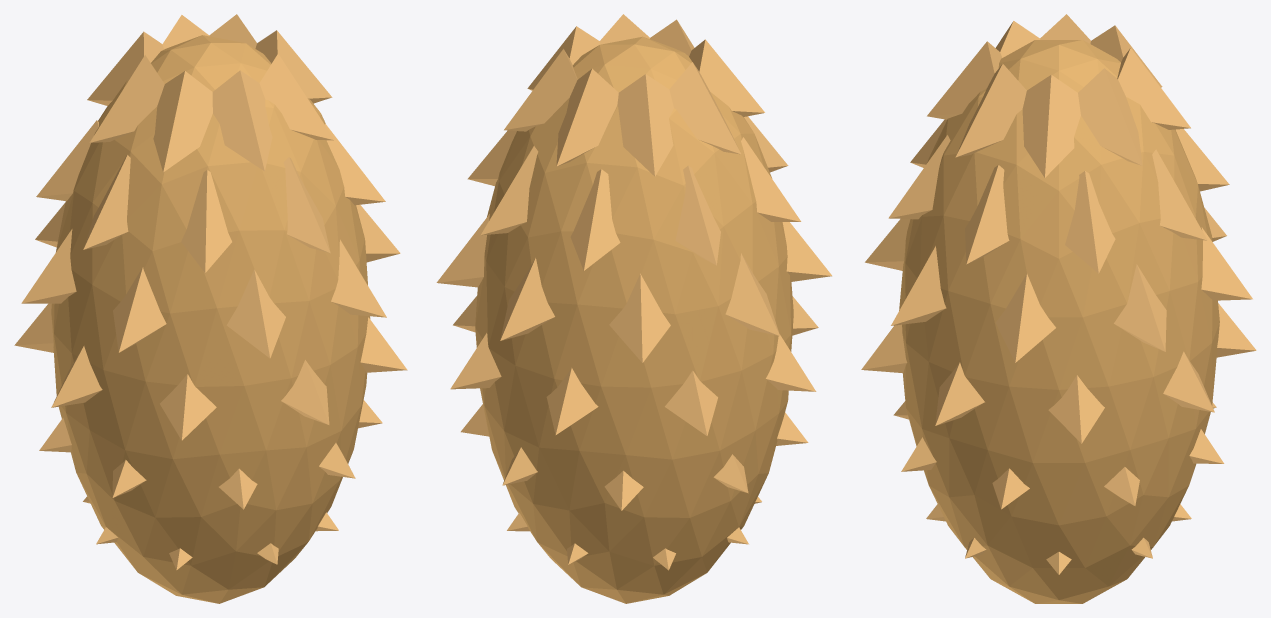
File: xmas_pinecone.glb
The picture shows the model from 3 angles, left to right: view 1: azimuth 30°, elevation 25°; view 2: azimuth 150°, elevation 25°; view 3: azimuth 270°, elevation 25°; orthographic projection.
Parts seen in each view (by area): view 1: Pinecone; view 2: Pinecone; view 3: Pinecone.
Boxes of the visible parts, x1,y1,x2,y2 form: Pinecone: (14, 14, 407, 603); Pinecone: (436, 14, 831, 603); Pinecone: (861, 14, 1256, 603).
Size of the model in its own units: 1.23 by 1.9 by 1.23.
